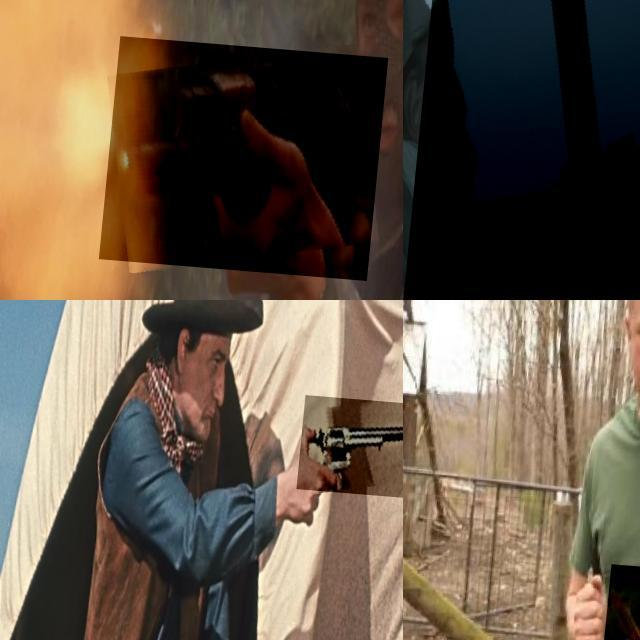-: (607, 559, 640, 640)
gun-knife-thesis - v11 Yolov5 augmented: (403, 0, 640, 300), (110, 33, 395, 273), (302, 388, 403, 489)
